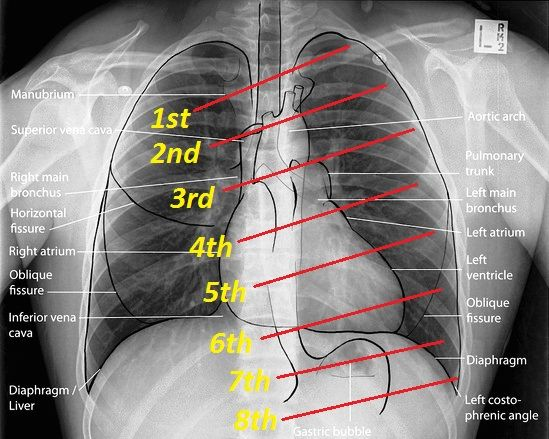telestration: (464, 392, 541, 422), (6, 309, 76, 339), (6, 381, 68, 412), (10, 171, 71, 199), (8, 206, 66, 235), (465, 149, 523, 178), (465, 185, 520, 215), (10, 121, 115, 135), (151, 139, 203, 167), (463, 295, 514, 323), (464, 252, 513, 281), (8, 267, 55, 296), (168, 185, 215, 211), (185, 234, 235, 258), (225, 368, 272, 393), (208, 329, 253, 354), (7, 243, 75, 258), (465, 223, 525, 240), (204, 280, 245, 304), (7, 88, 76, 102), (466, 353, 529, 368), (150, 107, 192, 129), (466, 109, 526, 124), (233, 405, 280, 423)
